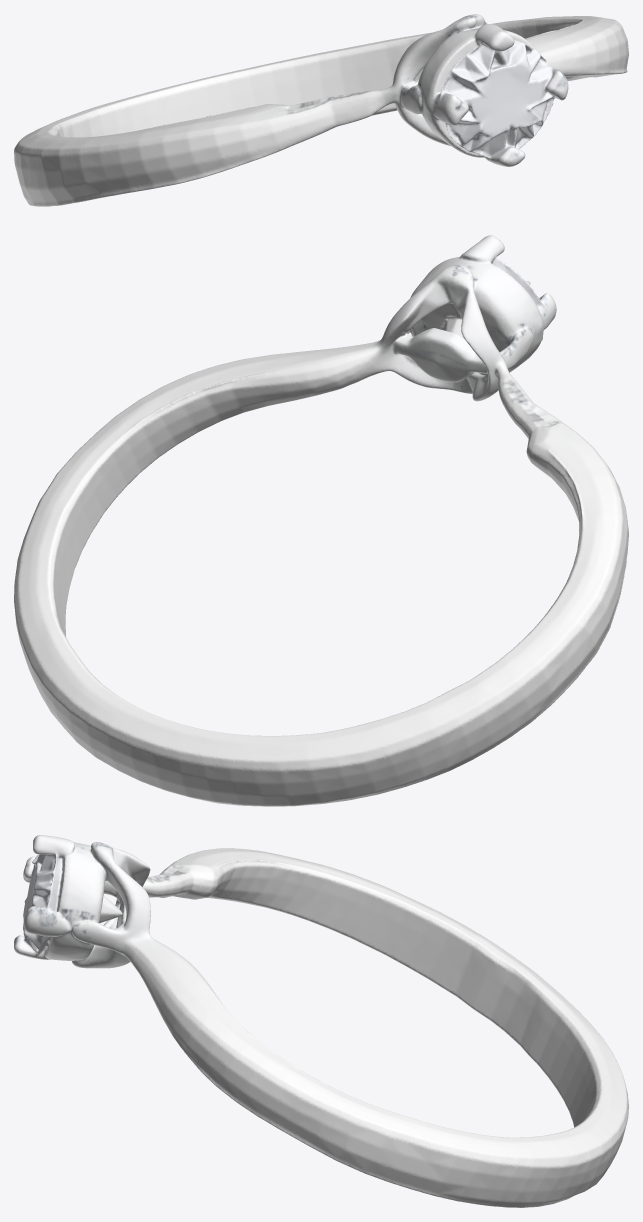
3 views of the same model, one above another, from view 1: azimuth 30°, elevation 25°; view 2: azimuth 150°, elevation 25°; view 3: azimuth 270°, elevation 25° (orthographic). The views are drawn at different scales.
Size of the model in its own units: 0.9018 by 0.5378 by 0.9467.
1 material, 1 textured.
